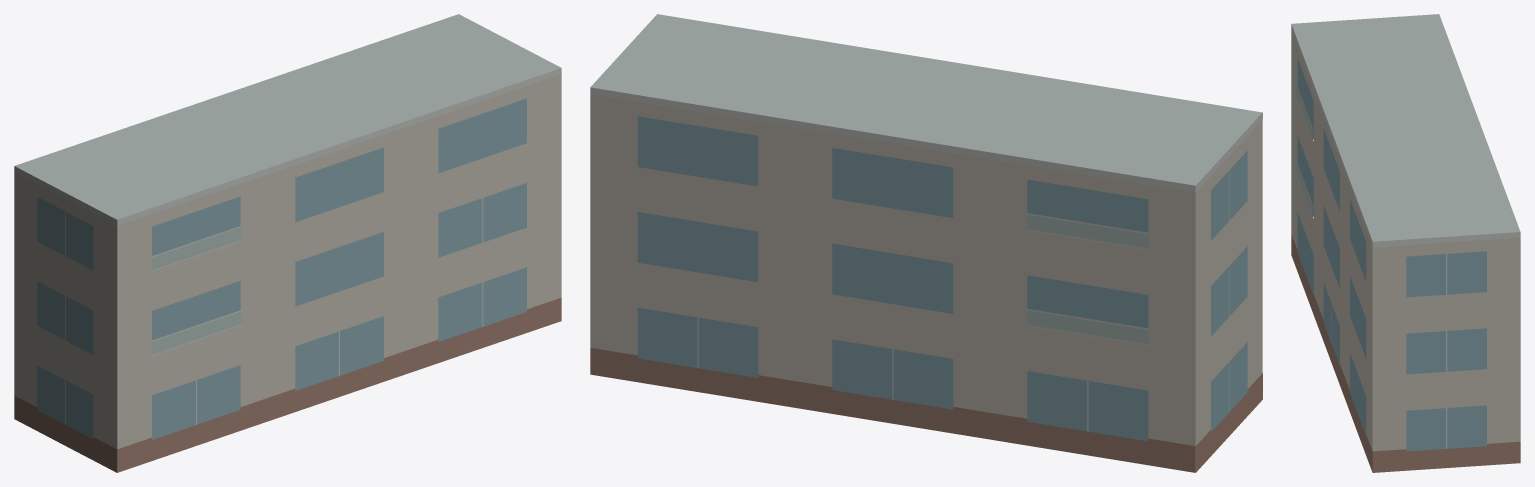
The model's file is survey-upis-32905629.glb.
3 views of the same model, side by side, from view 1: azimuth 30°, elevation 25°; view 2: azimuth 150°, elevation 25°; view 3: azimuth 270°, elevation 25° (orthographic). The views are drawn at different scales.
Visible parts, largest first — view 1: survey-upis-32905629.tmp; view 2: survey-upis-32905629.tmp; view 3: survey-upis-32905629.tmp.
Boxes of the visible parts, left/top/right/bottom form: survey-upis-32905629.tmp: left=14, top=14, right=561, bottom=472; survey-upis-32905629.tmp: left=590, top=14, right=1262, bottom=472; survey-upis-32905629.tmp: left=1291, top=14, right=1520, bottom=472.
Size of the model in its own units: 21.35 by 10.1 by 9.09.
